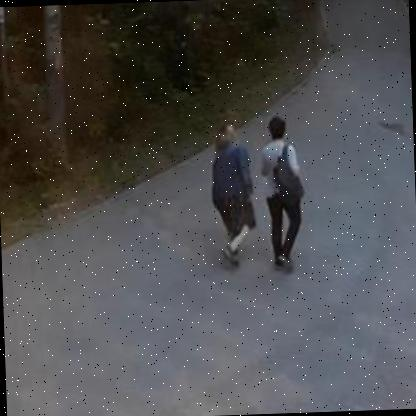person: (255, 114, 313, 288), (206, 119, 268, 277)
